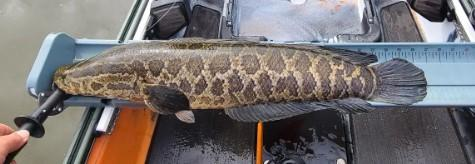Snakehead: (53, 35, 430, 121)
